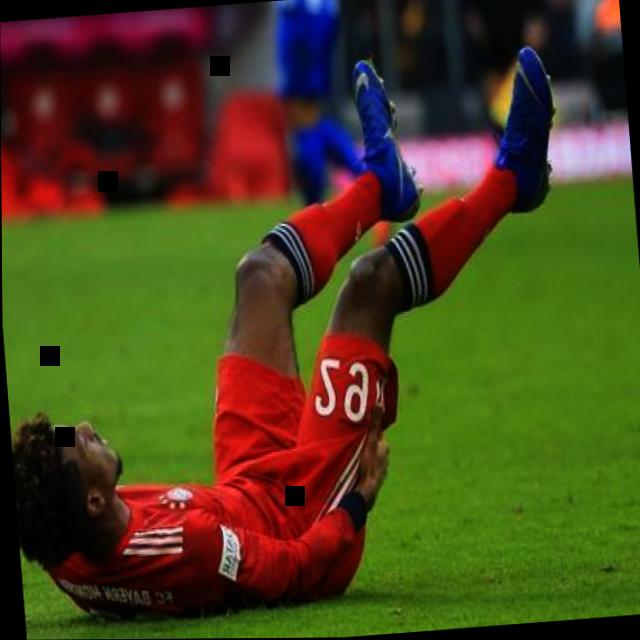Fall-Detected: (0, 16, 614, 616)
